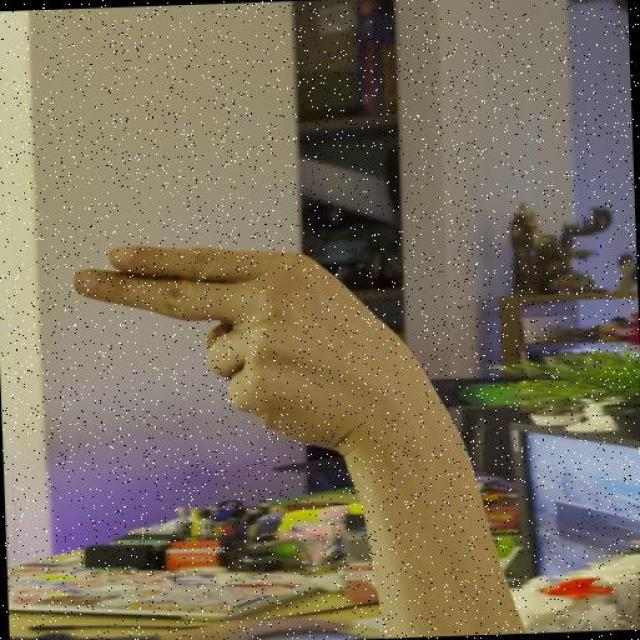H: (72, 235, 420, 447)
